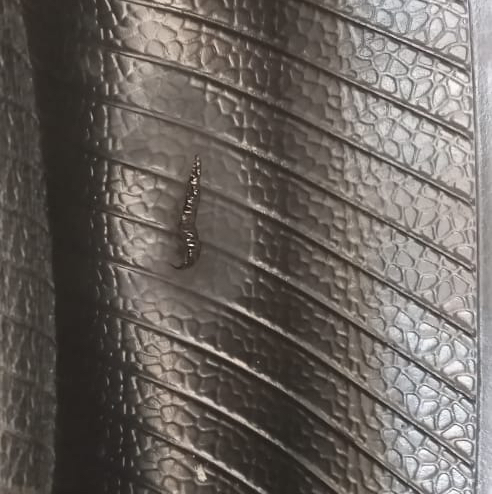CBU: (162, 138, 224, 288)
